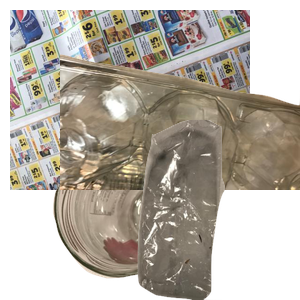glass: (50, 131, 252, 300)
paper: (10, 10, 250, 190)
plastic: (60, 52, 300, 232)
trash: (114, 120, 300, 300)
